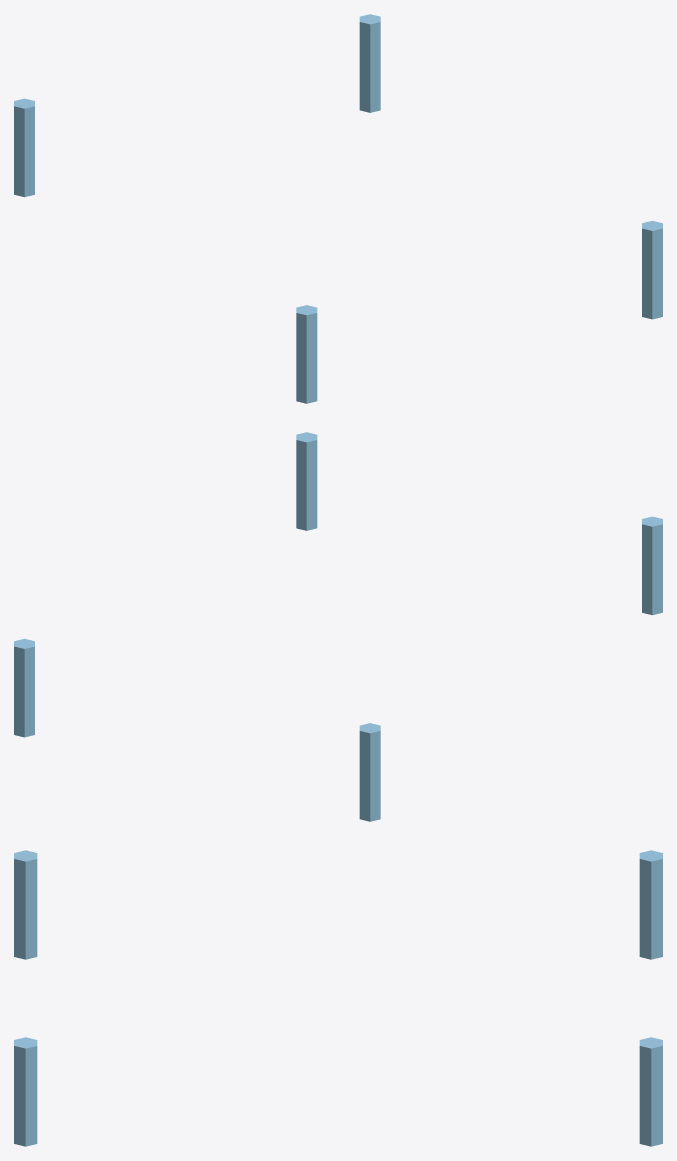
The model's file is screw_hex.dae.
The picture shows the model from 3 angles, top to bottom: view 1: azimuth 30°, elevation 25°; view 2: azimuth 150°, elevation 25°; view 3: azimuth 270°, elevation 25°; orthographic projection. The views are drawn at different scales.
Visible parts, largest first — view 1: 66e3a62dda03465f4261e29f (×4); view 2: 66e3a62dda03465f4261e29f (×4); view 3: 66e3a62dda03465f4261e29f (×4).
Boxes of the visible parts, bbox=[...] form: 66e3a62dda03465f4261e29f (×4): bbox=[14, 14, 662, 403]; 66e3a62dda03465f4261e29f (×4): bbox=[14, 432, 662, 821]; 66e3a62dda03465f4261e29f (×4): bbox=[14, 850, 662, 1146].
Size of the model in its own units: 0.2603 by 0.3599 by 0.06.
